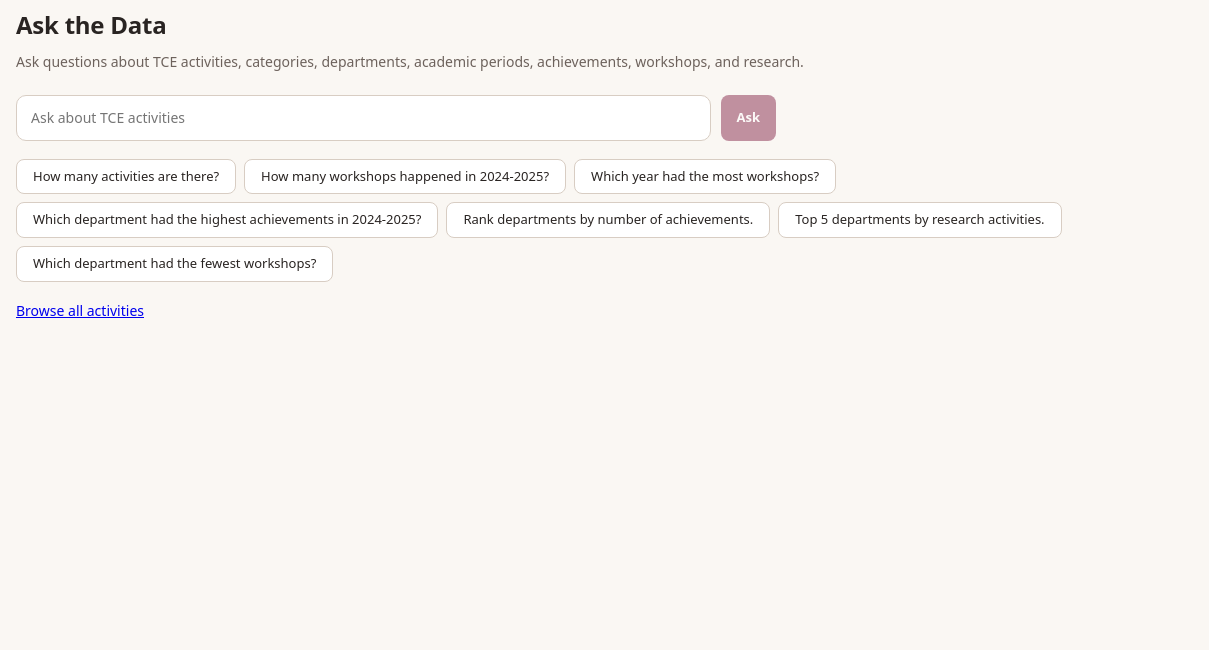
Test case: Ask the Data › renders criteria chips alongside the answer
Step 1. Click the button "How many workshops happened in 2024-2025?" → (405, 177), box left=244, top=159, right=566, bottom=194
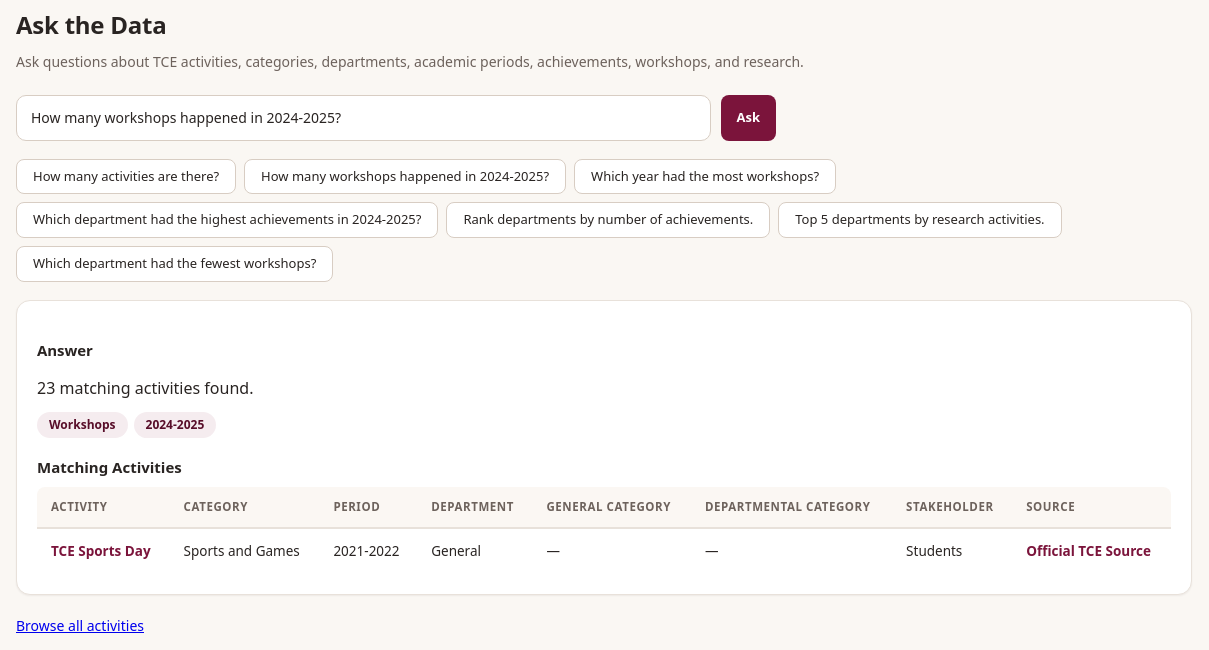
Result: the text "23 matching activities found." is shown at left=37, top=377, right=253, bottom=399
Result: the element named "Query criteria" shows "Workshops" at left=49, top=416, right=116, bottom=432
Result: the element named "Query criteria" shows "2024-2025" at left=146, top=416, right=204, bottom=432
